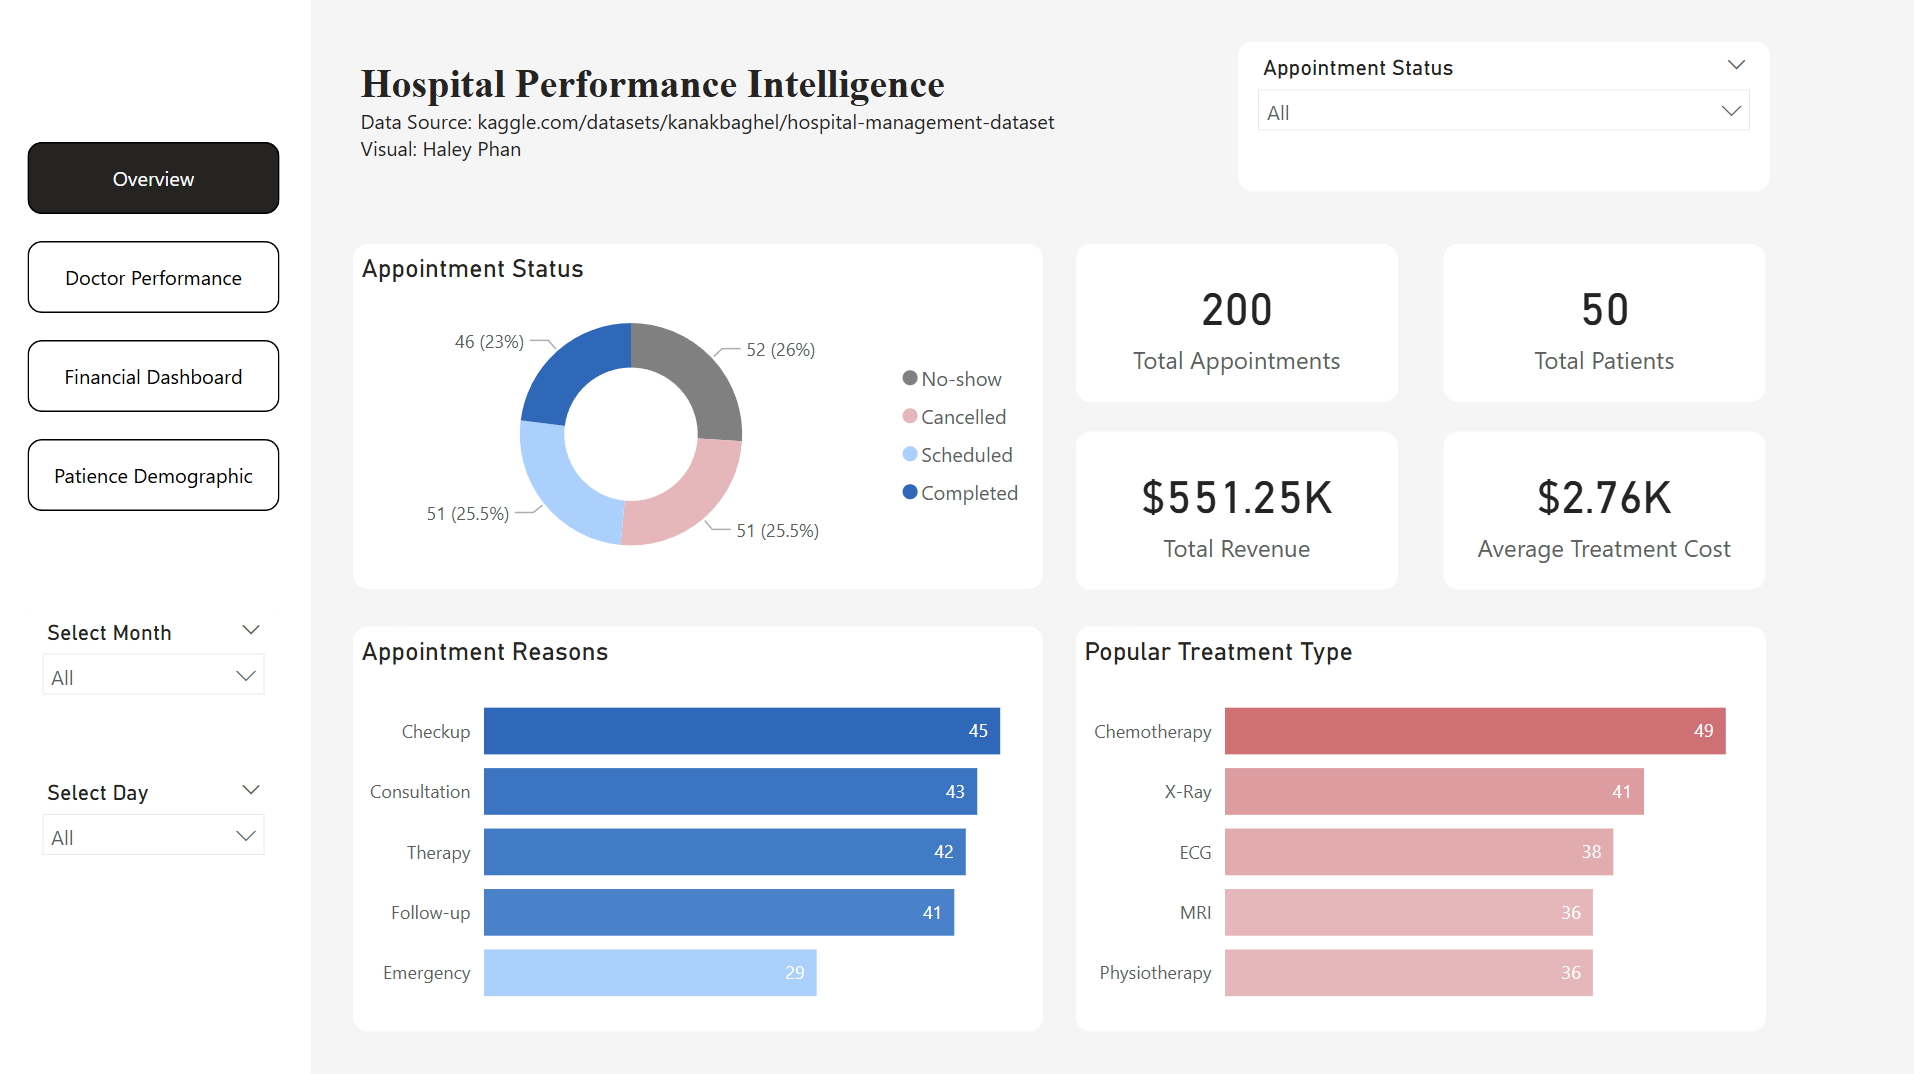

The dashboard page shown, as its layout file describes it:
{"tool":"powerbi","page":{"name":"Overview","canvas":[1280,720],"ordinal":0},"visuals":[{"type":"shape","box":[0,0,210,720],"z":0},{"type":"donutChart","title":"Appointment Status","fields":{"Category":["appointments.status"],"Y":["appointments.Total Appointments"]},"box":[237.5,163.8,460,230],"z":1000},{"type":"barChart","title":"Appointment Reasons","fields":{"Y":["appointments.Total Appointments"],"Category":["appointments.reason_for_visit"]},"box":[237.5,418.8,460,270],"z":2000},{"type":"card","fields":{"Values":["appointments.Total Appointments"]},"box":[720,163.8,215,105],"z":3000},{"type":"barChart","title":"Popular Treatment Type","fields":{"Category":["treatments.treatment_type"],"Y":["CountNonNull(treatments.treatment_id)"]},"box":[720,418.8,460,270],"z":4000},{"type":"slicer","fields":{"Values":["appointments.appointment_date.Variation.Date Hierarchy.Month"]},"box":[21.2,408.8,167.5,73.8],"z":5000},{"type":"pageNavigator","box":[21.2,96.2,167.5,248.8],"z":6000},{"type":"slicer","fields":{"Values":["appointments.appointment_date.Variation.Date Hierarchy.Day"]},"box":[21.2,516.2,167.5,73.8],"z":7000},{"type":"textbox","box":[237.5,36.2,482.5,85],"z":8000},{"type":"card","fields":{"Values":["billing.Total Revenue"]},"box":[720,288.8,215,105],"z":9000},{"type":"card","fields":{"Values":["patients.Total Patients"]},"box":[965,163.8,215,105],"z":10000},{"type":"card","fields":{"Values":["treatments.Avg T Cost"]},"box":[965,288.8,215,105],"z":11000},{"type":"slicer","fields":{"Values":["appointments.status"]},"box":[827.5,28.8,355,100],"z":12000}]}

Visuals, with their boxes in screenshot pixels (x1, y1, x2, y2), scaled from the page's 1280x720 canvas onto the 1914x1074 screenshot:
shape: select_region(0, 0, 314, 1073)
"Appointment Status" donutChart: select_region(355, 244, 1043, 587)
"Appointment Reasons" barChart: select_region(355, 625, 1043, 1027)
card - appointments.Total Appointments: select_region(1077, 244, 1398, 401)
"Popular Treatment Type" barChart: select_region(1077, 625, 1764, 1027)
slicer - appointments.appointment_date.Variation.Date Hierarchy.Month: select_region(32, 610, 282, 720)
pageNavigator: select_region(32, 143, 282, 515)
slicer - appointments.appointment_date.Variation.Date Hierarchy.Day: select_region(32, 770, 282, 880)
textbox: select_region(355, 54, 1077, 181)
card - billing.Total Revenue: select_region(1077, 431, 1398, 587)
card - patients.Total Patients: select_region(1443, 244, 1764, 401)
card - treatments.Avg T Cost: select_region(1443, 431, 1764, 587)
slicer - appointments.status: select_region(1237, 43, 1768, 192)
